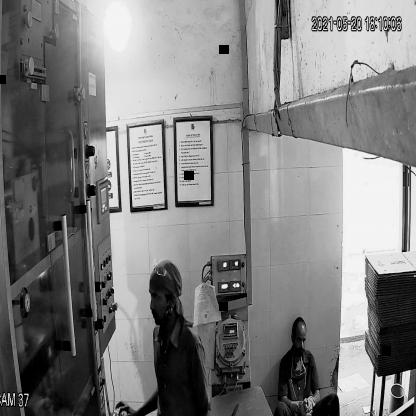no_goggles: (148, 288, 172, 308), (288, 330, 309, 349)
